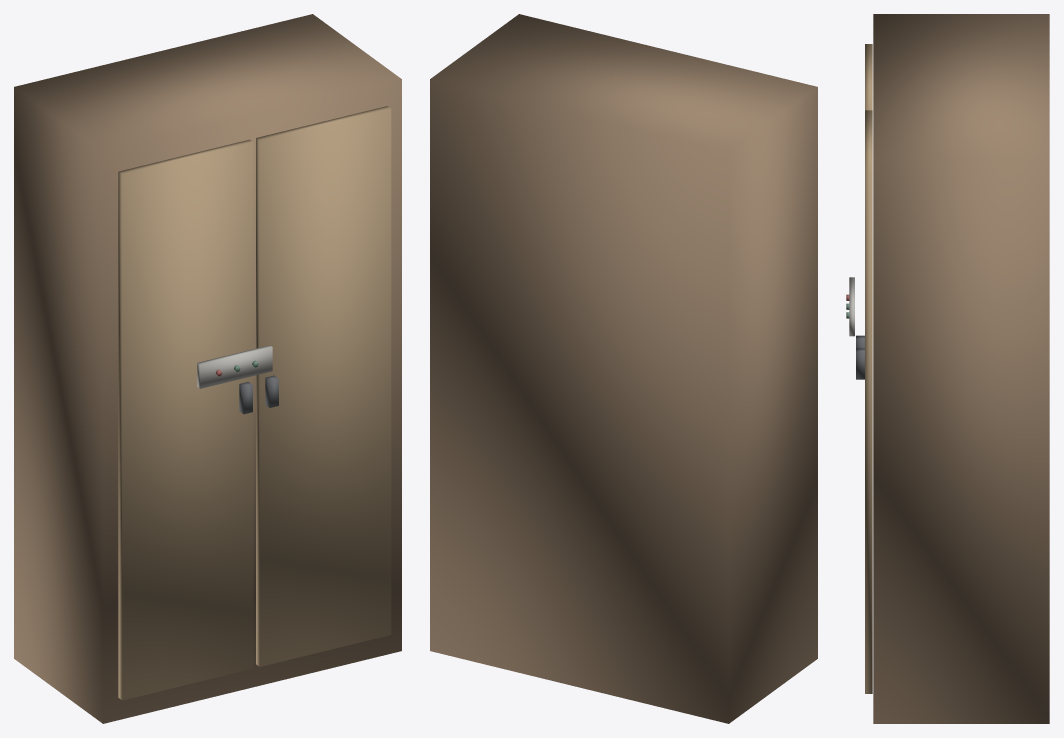
File: wardrobe__compact.glb
The picture shows the model from 3 angles, left to right: view 1: azimuth 30°, elevation 25°; view 2: azimuth 150°, elevation 25°; view 3: azimuth 270°, elevation 25°; orthographic projection.
Parts seen in each view (by area): view 1: world; view 2: world; view 3: world.
Part boxes in pixels (x1,y1,x2,y2): world: (14,14,401,723); world: (430,14,817,723); world: (846,14,1049,723).
Bounding box in the file's own units: 0.966 × 1.77 × 0.5749.
